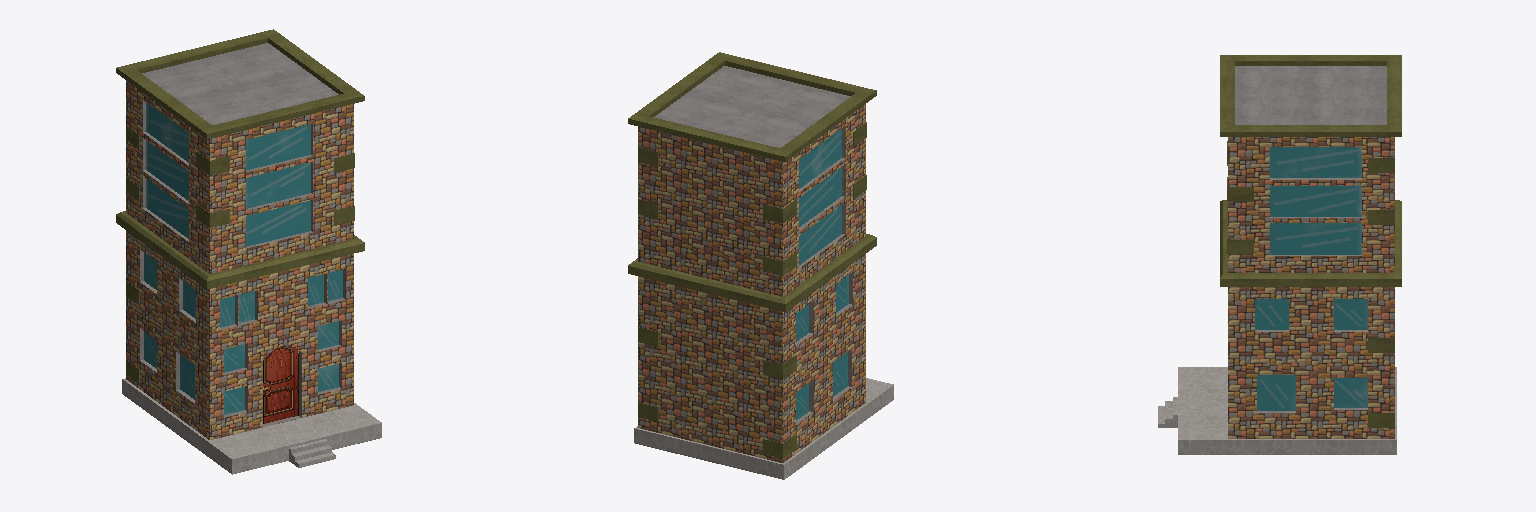
The picture shows the model from 3 angles: view 1: azimuth 30°, elevation 25°; view 2: azimuth 150°, elevation 25°; view 3: azimuth 270°, elevation 25°; orthographic projection.
Parts seen in each view (by area): view 1: cartoon_building; view 2: cartoon_building; view 3: cartoon_building.
Boxes of the visible parts, x1=… form: cartoon_building: x1=116, y1=29, x2=381, y2=474; cartoon_building: x1=628, y1=52, x2=893, y2=479; cartoon_building: x1=1158, y1=55, x2=1401, y2=454.
Bounding box in the file's own units: 67.46 × 133 × 90.51.
1 materials, 1 textured.